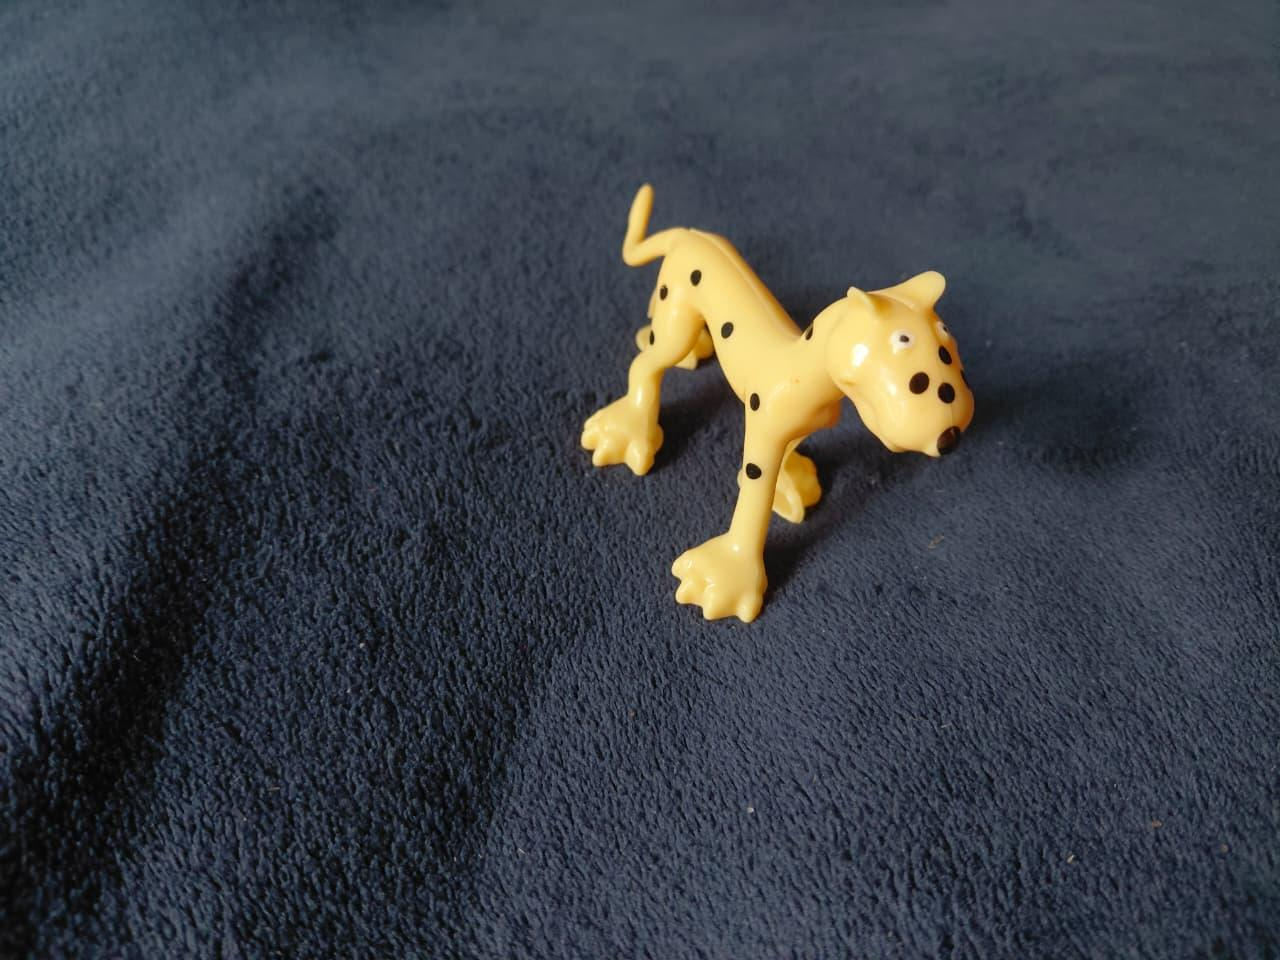cheetah: (570, 146, 984, 644)
